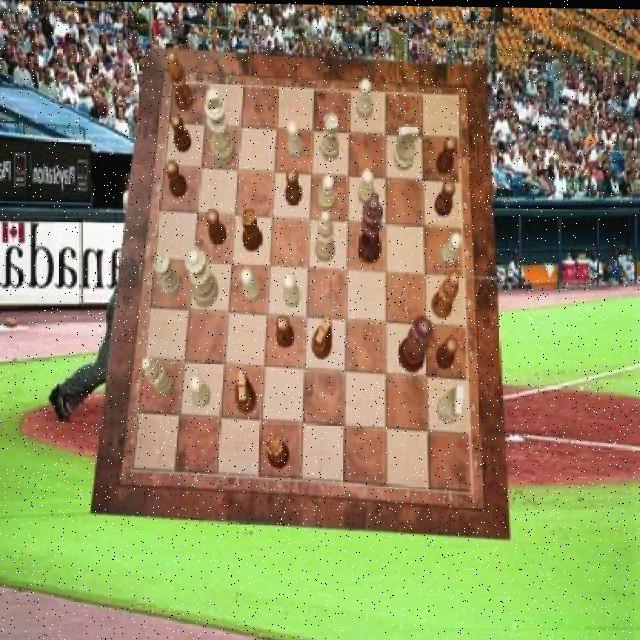bishop: (167, 51, 194, 110), (431, 271, 460, 317)
black-bishop: (359, 192, 383, 263)
black-king: (233, 370, 255, 413), (312, 314, 332, 357)
black-knight: (165, 159, 188, 197), (434, 177, 456, 215), (170, 113, 191, 151), (434, 334, 457, 368), (436, 134, 456, 173), (274, 314, 294, 348), (206, 209, 226, 243), (284, 168, 302, 204)
black-pawn: (397, 314, 432, 372)
black-queen: (241, 207, 263, 252), (266, 434, 289, 469)
black-rook: (142, 356, 176, 396), (314, 210, 334, 263)
white-bishop: (203, 88, 234, 165)
white-king: (392, 123, 418, 169), (437, 383, 463, 422)
white-knight: (438, 230, 462, 265), (188, 374, 211, 407), (240, 268, 260, 302), (286, 120, 303, 159), (356, 78, 372, 118), (282, 272, 300, 306), (357, 169, 374, 205), (317, 173, 334, 209)
white-pawn: (186, 247, 218, 307)
white-queen: (154, 254, 181, 297), (320, 113, 340, 161)
